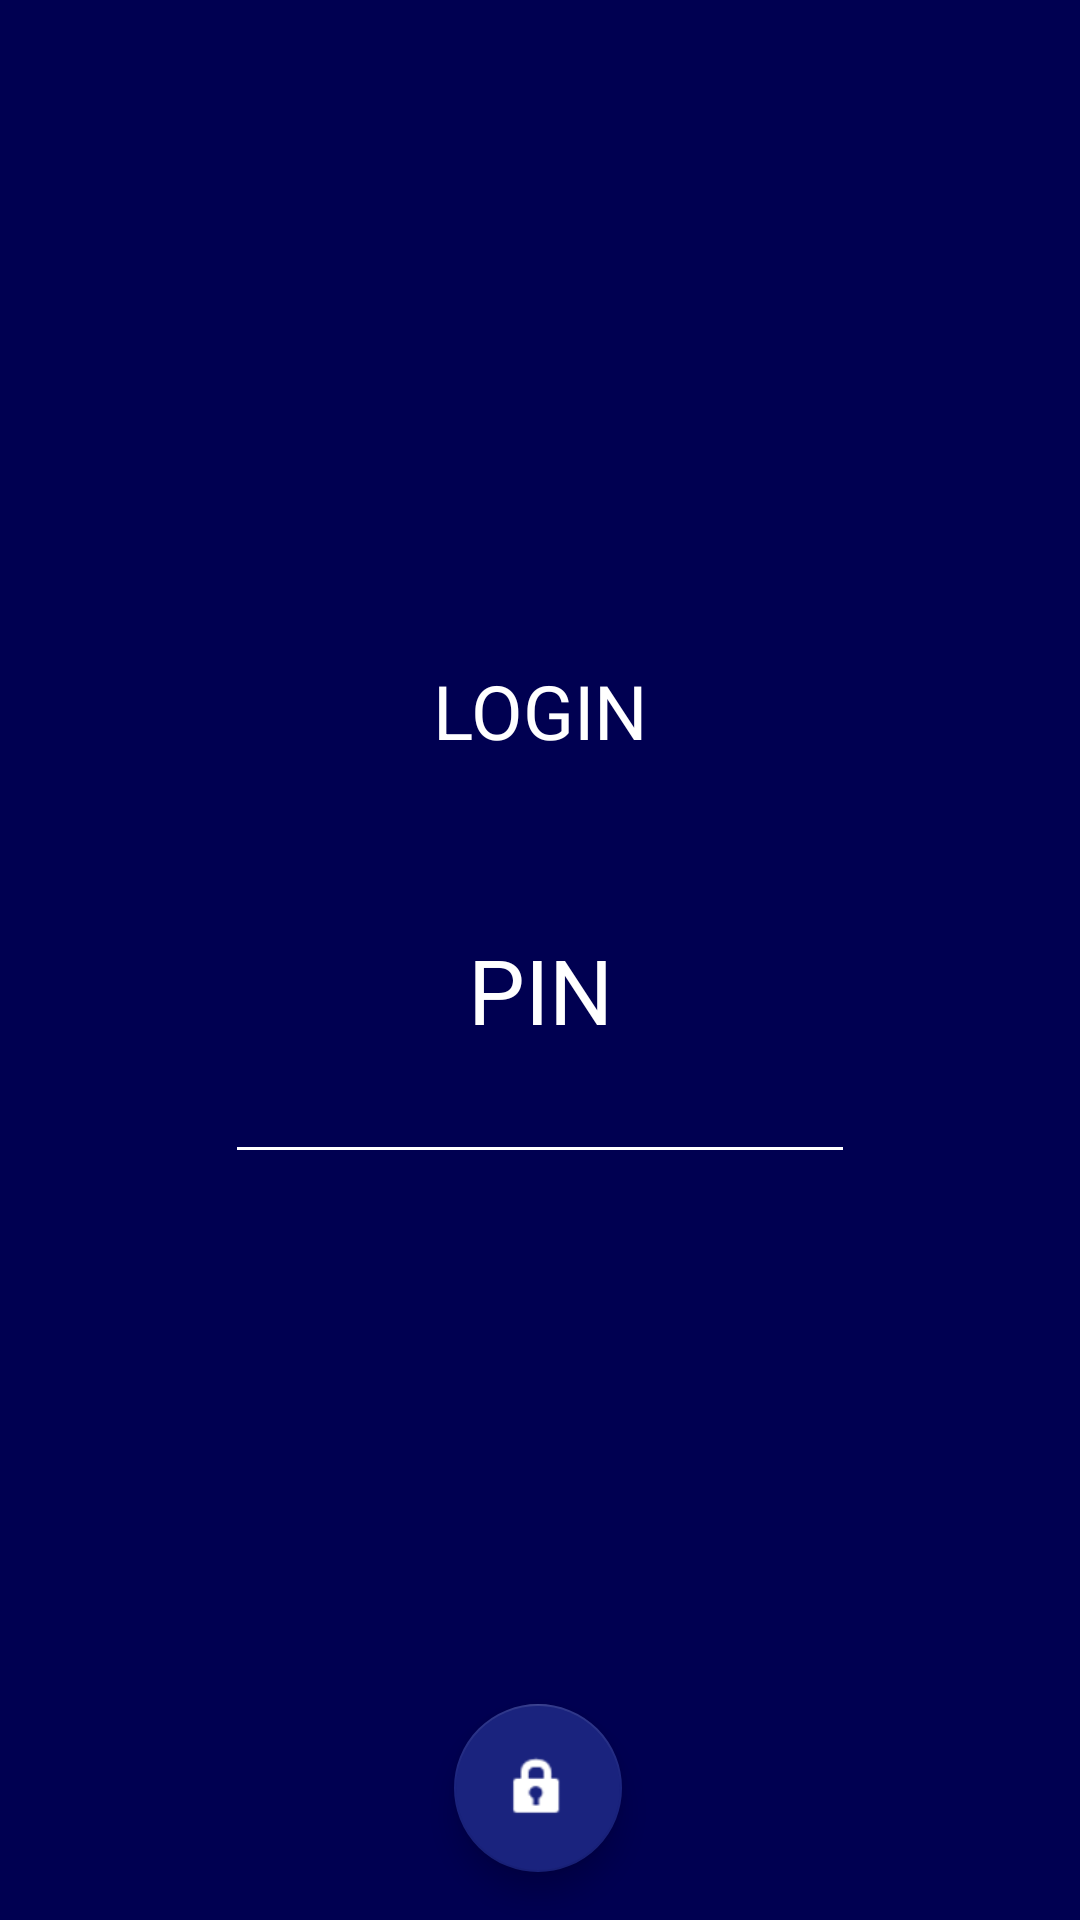

Locate icon controls on the screen. Image size 1080w x 1920h, boxes as (x1, y1, x2, y2).
lock idle: (454, 1704, 622, 1872)
